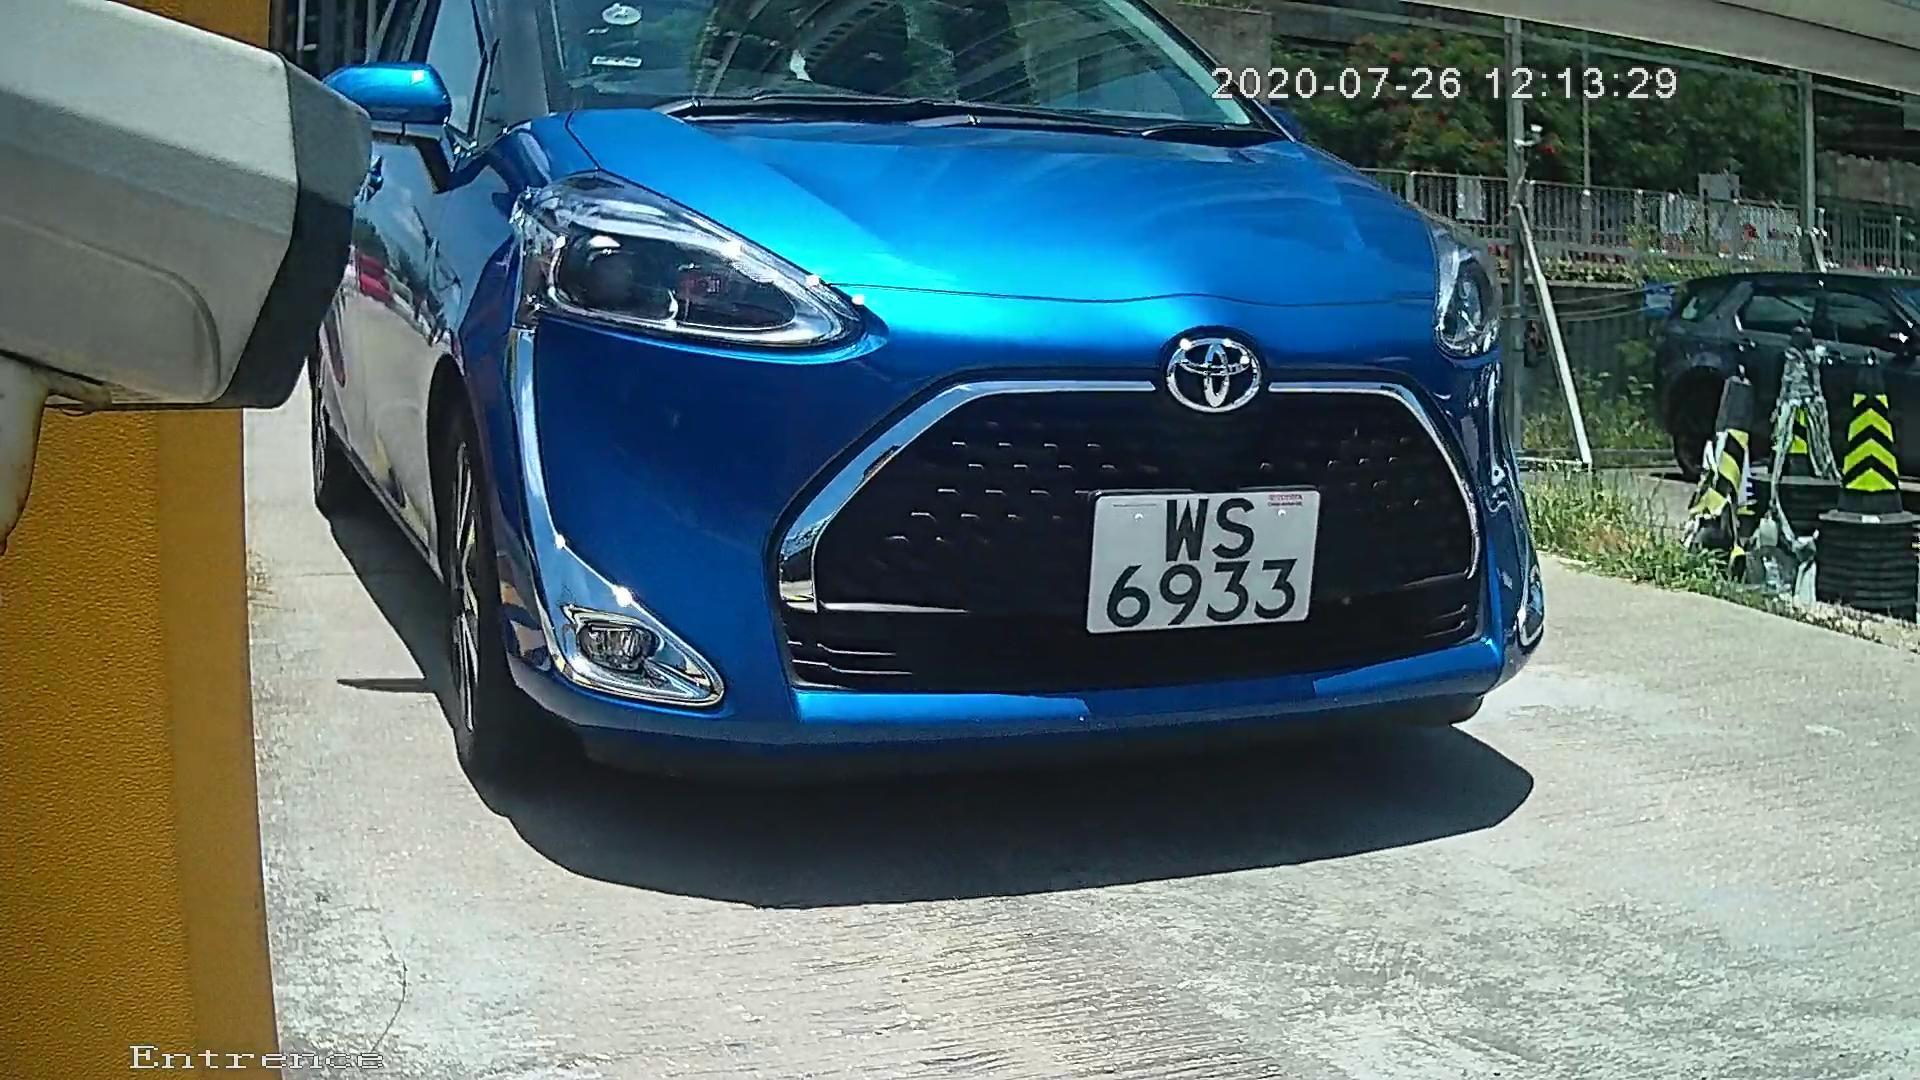privatecar: (258, 15, 1611, 864)
